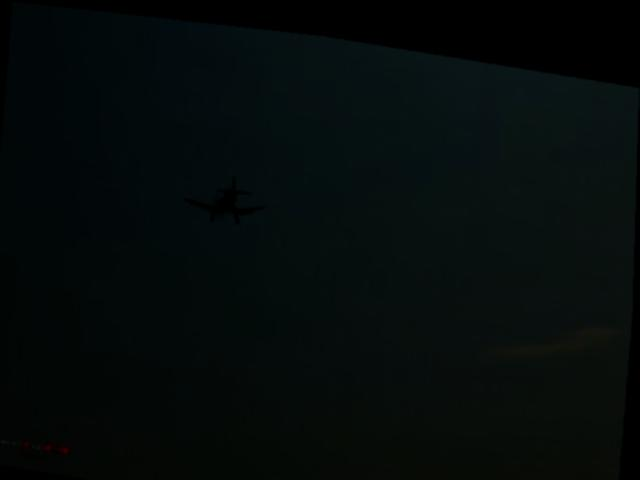uav: (182, 159, 274, 225)
